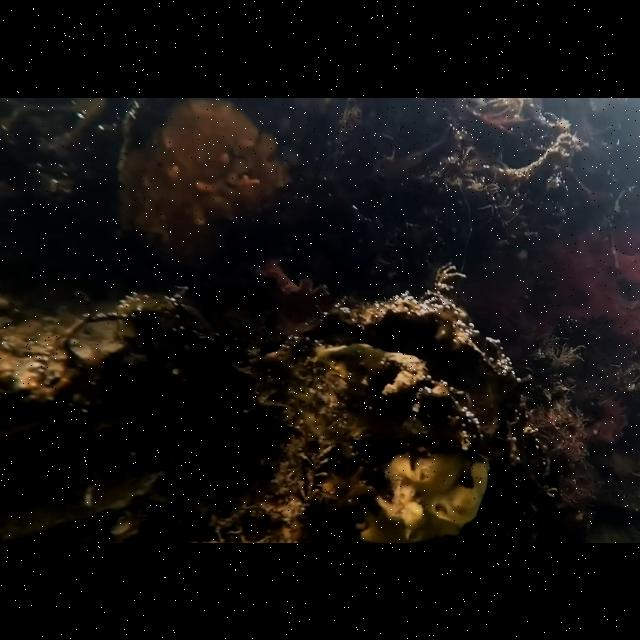Oyster-Closed: (118, 97, 292, 261)
Oyster-Open: (248, 296, 500, 542), (0, 292, 174, 442), (0, 470, 166, 542)
